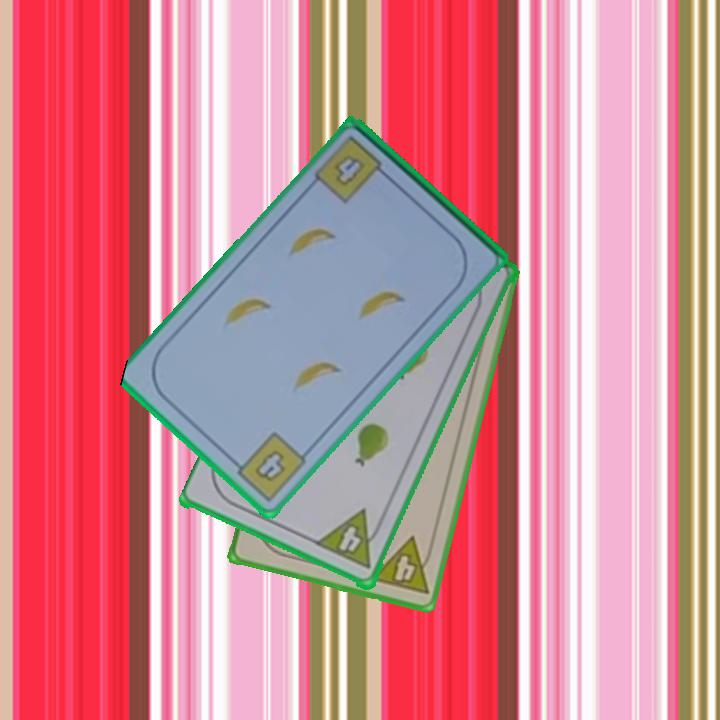4b: (227, 428, 310, 506), (331, 151, 368, 190)
4p: (367, 533, 438, 598), (315, 507, 365, 559)
